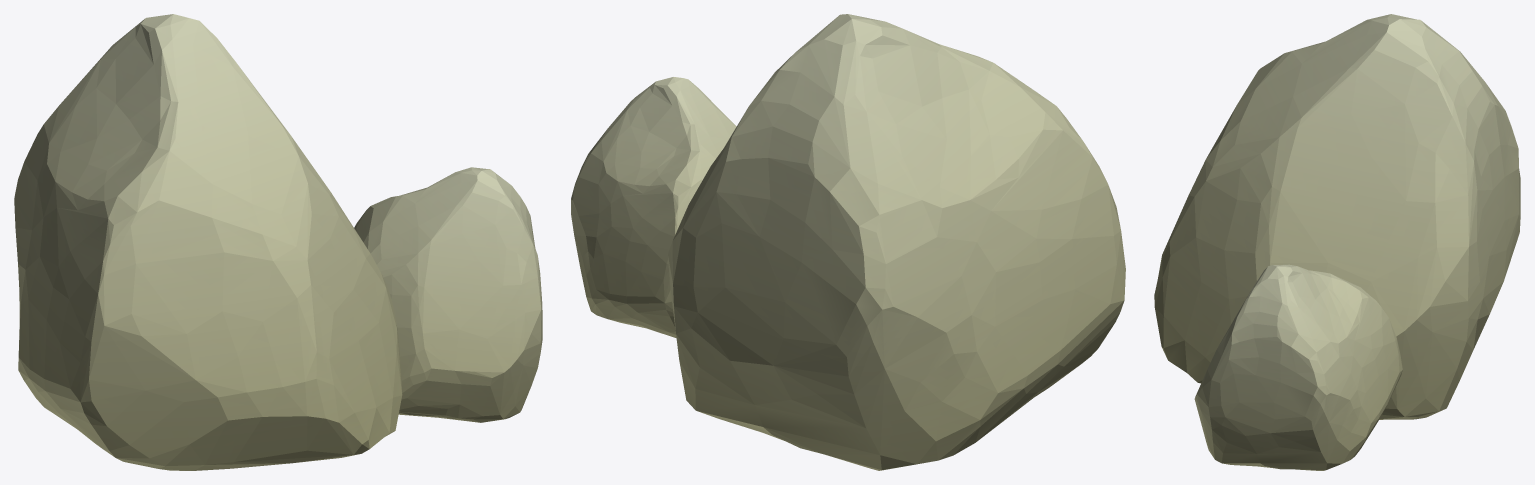
Rendered from Rock_02.fbx.
3 renders of one model, left to right at view 1: azimuth 30°, elevation 25°; view 2: azimuth 150°, elevation 25°; view 3: azimuth 270°, elevation 25°, orthographic. The views are drawn at different scales.
Parts seen in each view (by area): view 1: Rock3_Prop_0_1.006, Rock3_Prop_0_1.007; view 2: Rock3_Prop_0_1.006, Rock3_Prop_0_1.007; view 3: Rock3_Prop_0_1.006, Rock3_Prop_0_1.007.
Boxes of the visible parts, left/top/right/bottom form: Rock3_Prop_0_1.006: left=14, top=14, right=402, bottom=470; Rock3_Prop_0_1.007: left=354, top=167, right=542, bottom=422; Rock3_Prop_0_1.006: left=667, top=14, right=1125, bottom=470; Rock3_Prop_0_1.007: left=571, top=77, right=736, bottom=338; Rock3_Prop_0_1.006: left=1154, top=14, right=1520, bottom=419; Rock3_Prop_0_1.007: left=1194, top=264, right=1402, bottom=470.
Size of the model in its own units: 169 by 131 by 125.
